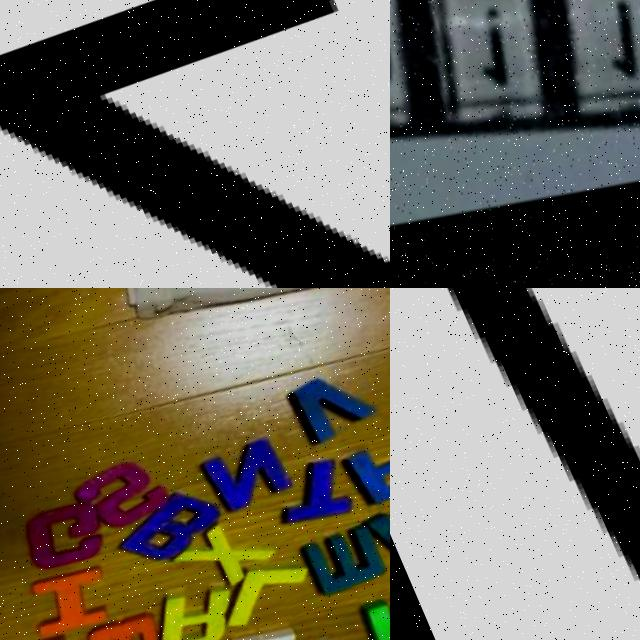0: (390, 0, 418, 123)
1: (441, 0, 537, 104), (572, 0, 640, 96)
B: (110, 473, 226, 573)
D: (398, 288, 640, 640)
F: (359, 570, 390, 640)
G: (16, 487, 110, 580)
I: (13, 545, 122, 640)
K: (365, 470, 390, 560)
L: (218, 538, 326, 631)
M: (295, 510, 389, 599)
N: (202, 429, 294, 512)
P: (344, 416, 390, 504)
Q: (285, 612, 387, 640)
R: (139, 562, 237, 640)
S: (83, 440, 176, 530)
T: (265, 441, 363, 531)
V: (283, 353, 377, 446)
W: (80, 604, 168, 640)
X: (179, 501, 283, 594)
Z: (0, 0, 390, 288), (214, 612, 305, 640)
